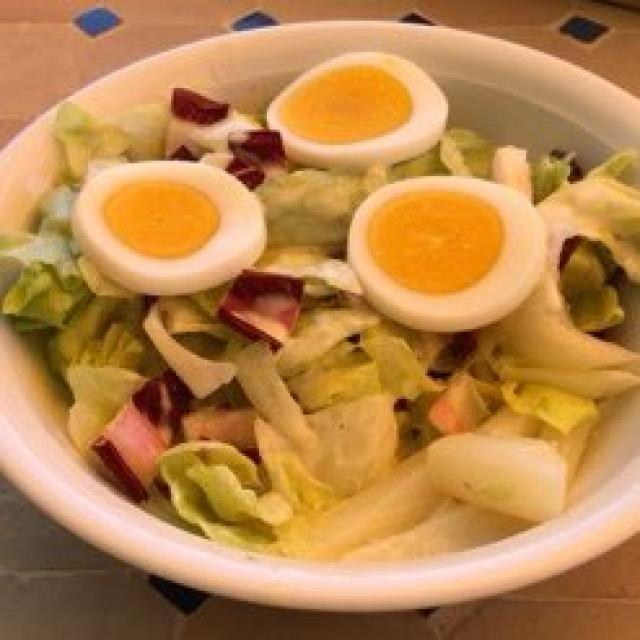egg: (79, 54, 564, 343)
salad: (12, 94, 622, 553)
